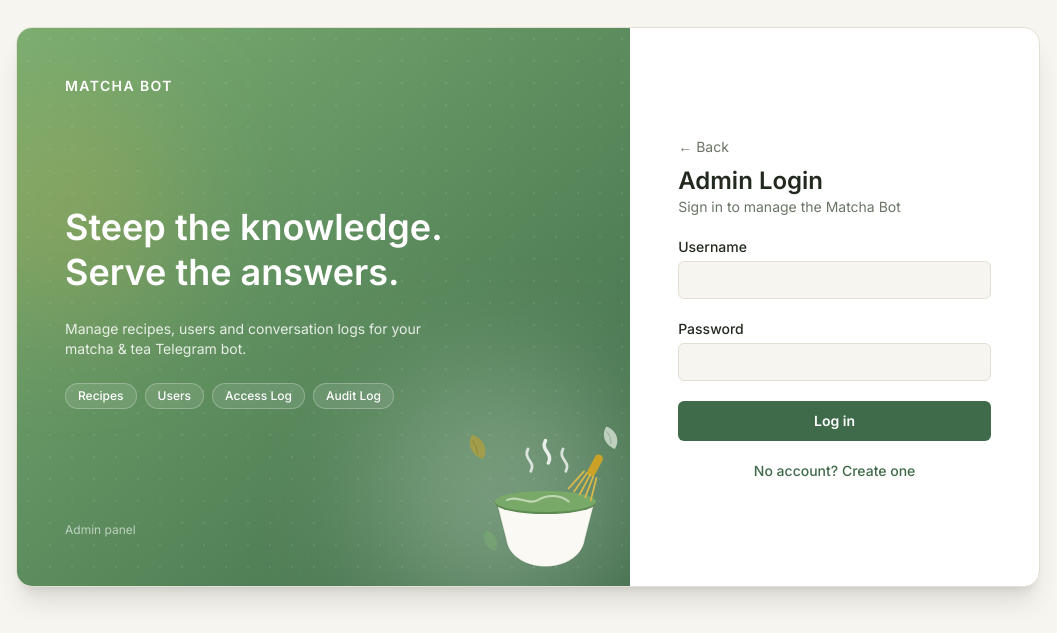
LoginPage › registration › shows when the username is taken
The image size is (1057, 633).
Click the button "No account? Create one".
click(835, 470)  # box 678,460 -> 991,480
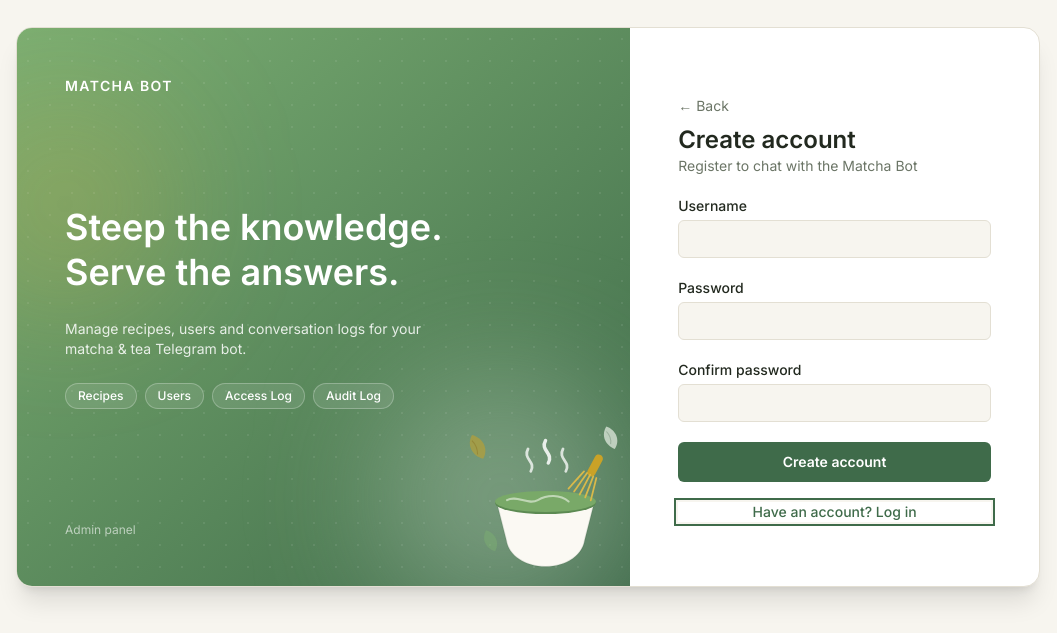
Type "linh" into the field labelled "Username".
click(835, 238); type("linh")  # box 678,220 -> 991,258
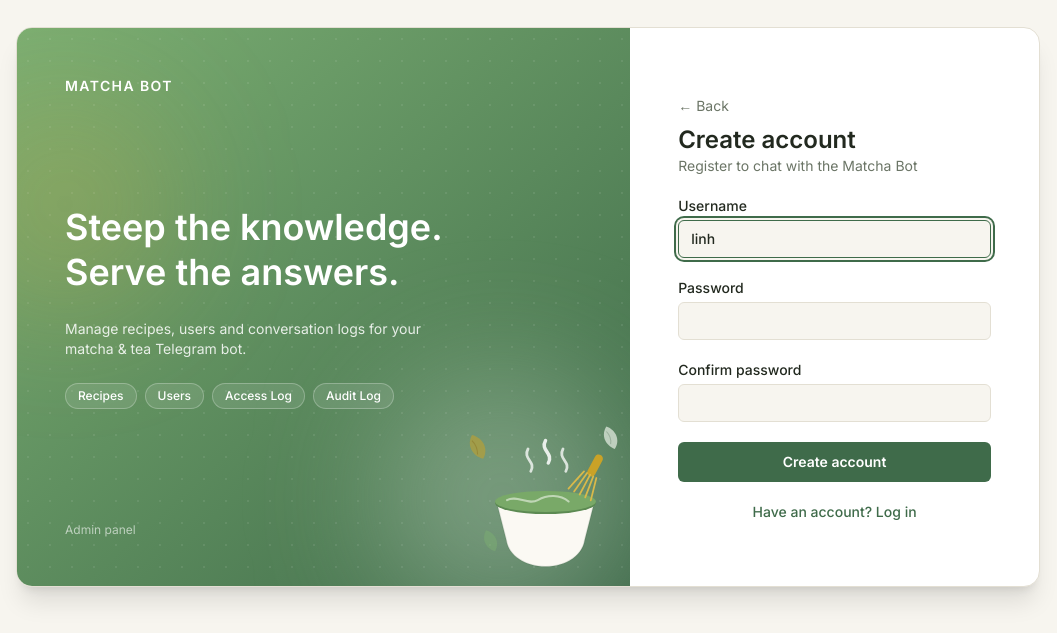
Type "matcha-lover" into the password field labelled "Password".
click(835, 320); type("matcha-lover")  # box 678,302 -> 991,340
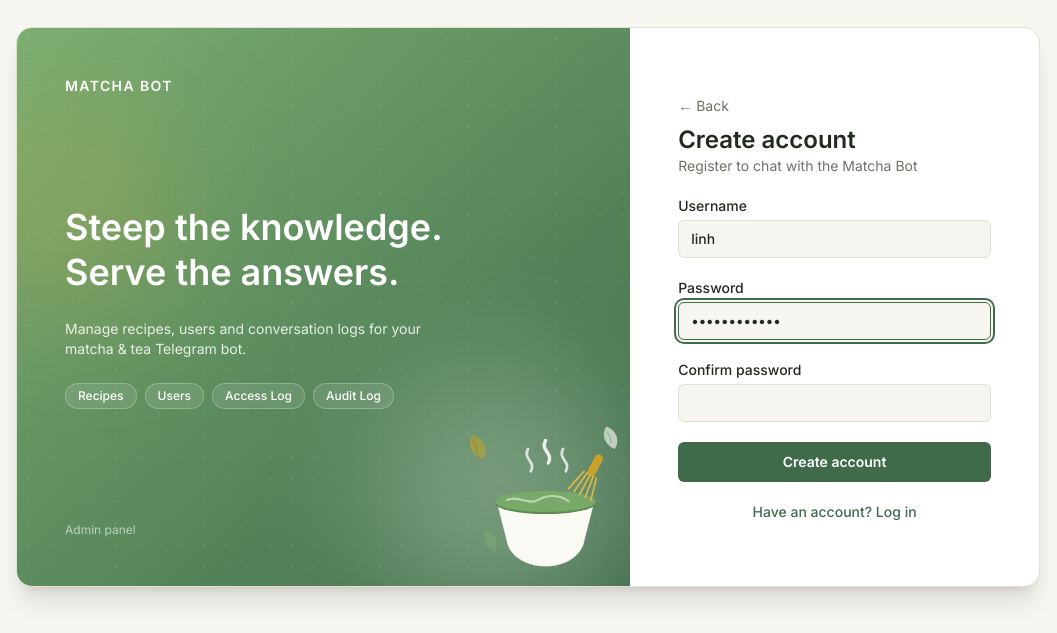
Type "matcha-lover" into the password field labelled "Confirm password".
click(835, 402); type("matcha-lover")  # box 678,384 -> 991,422
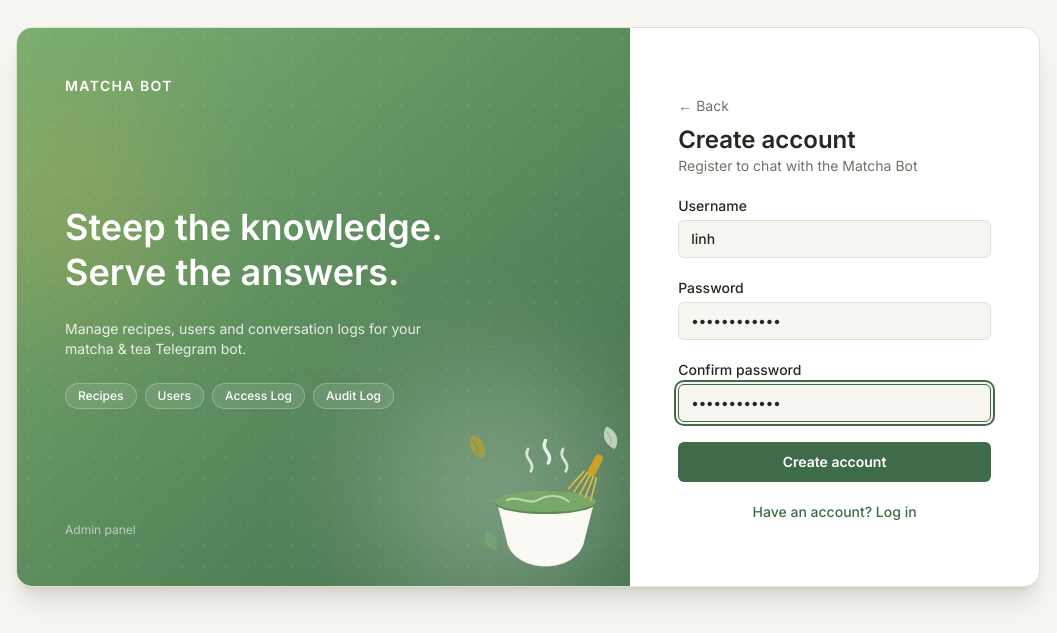
Click the button "Create account".
click(835, 462)  # box 678,442 -> 991,482
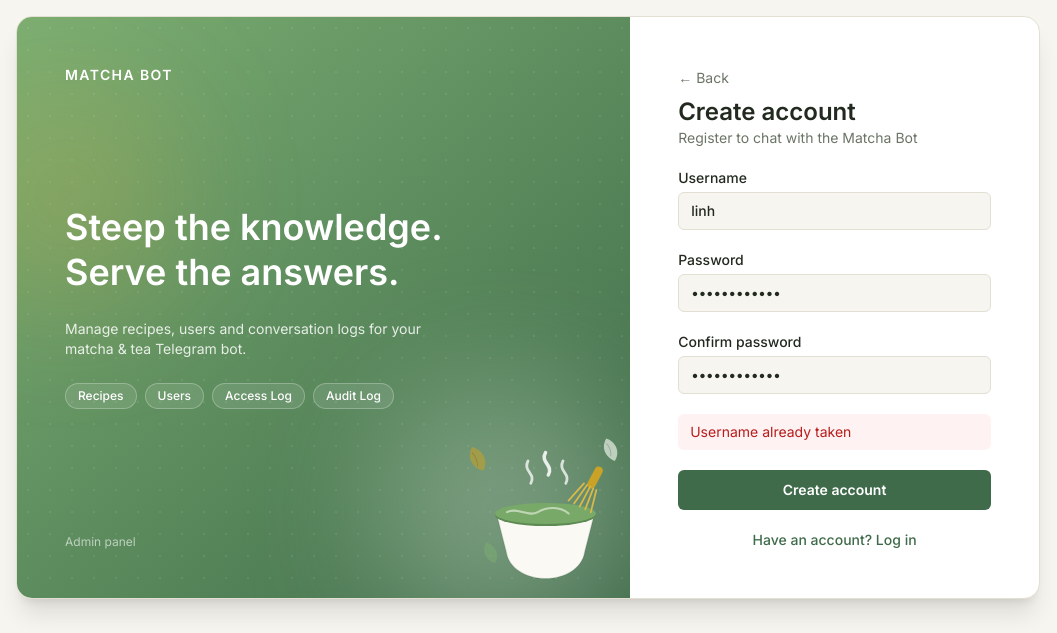
Expected: the message reads "Username already taken", 690,422 -> 851,440
